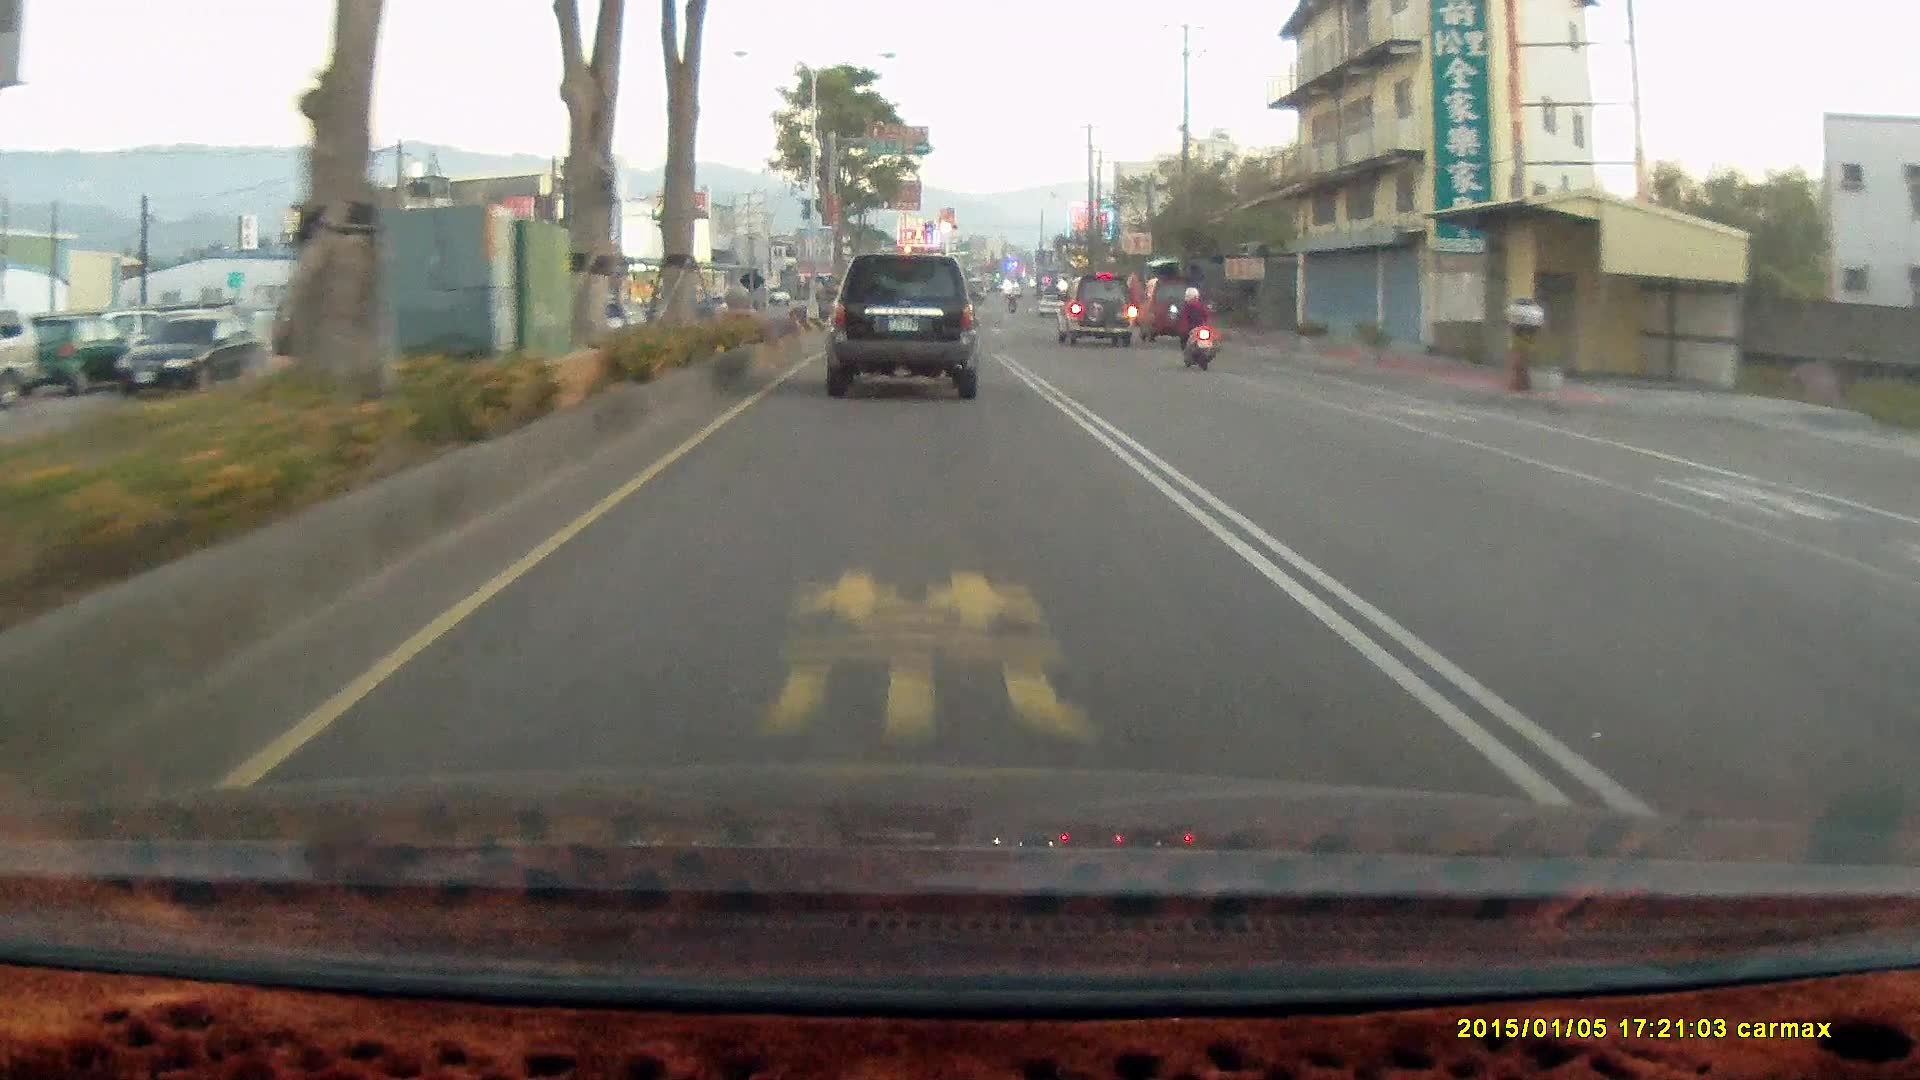rider: (1166, 279, 1226, 376), (1166, 286, 1216, 372)
vehicle: (827, 256, 989, 398), (821, 254, 979, 397), (110, 315, 265, 399), (119, 313, 263, 400), (1063, 276, 1147, 350), (1053, 274, 1136, 346), (1140, 275, 1208, 349), (1137, 274, 1205, 341), (1, 305, 45, 407)
